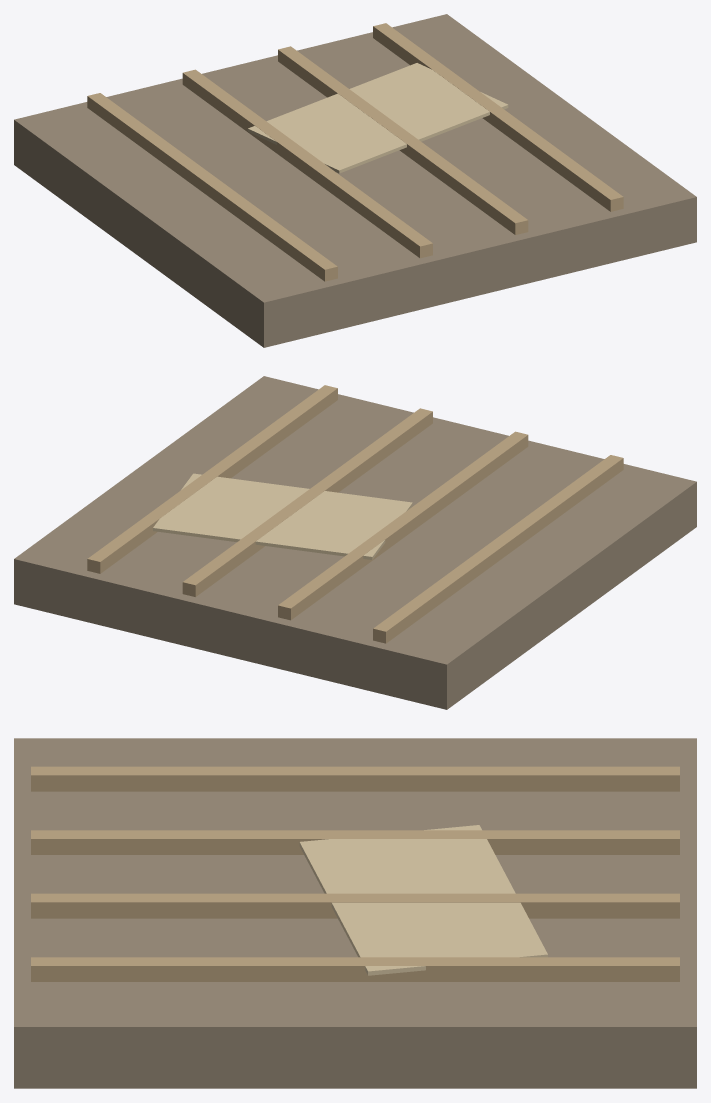
File: trader_roof_block.glb
3 renders of one model, top to bottom at view 1: azimuth 30°, elevation 25°; view 2: azimuth 150°, elevation 25°; view 3: azimuth 270°, elevation 25°, orthographic. The views are drawn at different scales.
Visible parts, largest first — view 1: single_old_klim_roof_slab_core_2m, roof_dust_wear_patch, roof_corrugated_rib_0, roof_corrugated_rib_1, roof_corrugated_rib_3, roof_corrugated_rib_2; view 2: single_old_klim_roof_slab_core_2m, roof_dust_wear_patch, roof_corrugated_rib_0, roof_corrugated_rib_1, roof_corrugated_rib_3, roof_corrugated_rib_2; view 3: single_old_klim_roof_slab_core_2m, roof_dust_wear_patch, roof_corrugated_rib_0, roof_corrugated_rib_3, roof_corrugated_rib_2, roof_corrugated_rib_1.
Boxes of the visible parts, x1,y1,x2,y2 form: single_old_klim_roof_slab_core_2m: [14, 14, 696, 347]; roof_dust_wear_patch: [247, 63, 508, 173]; roof_corrugated_rib_0: [87, 93, 337, 281]; roof_corrugated_rib_1: [182, 69, 432, 258]; roof_corrugated_rib_3: [373, 23, 623, 211]; roof_corrugated_rib_2: [278, 46, 528, 234]; single_old_klim_roof_slab_core_2m: [14, 376, 696, 709]; roof_dust_wear_patch: [153, 473, 412, 559]; roof_corrugated_rib_0: [373, 455, 623, 643]; roof_corrugated_rib_1: [278, 431, 528, 620]; roof_corrugated_rib_3: [87, 385, 337, 573]; roof_corrugated_rib_2: [182, 408, 432, 596]; single_old_klim_roof_slab_core_2m: [14, 738, 696, 1088]; roof_dust_wear_patch: [299, 825, 547, 975]; roof_corrugated_rib_0: [31, 766, 679, 791]; roof_corrugated_rib_3: [31, 957, 679, 981]; roof_corrugated_rib_2: [31, 893, 679, 918]; roof_corrugated_rib_1: [31, 830, 679, 854].
Size of the model in its own units: 2 by 0.2525 by 2.
